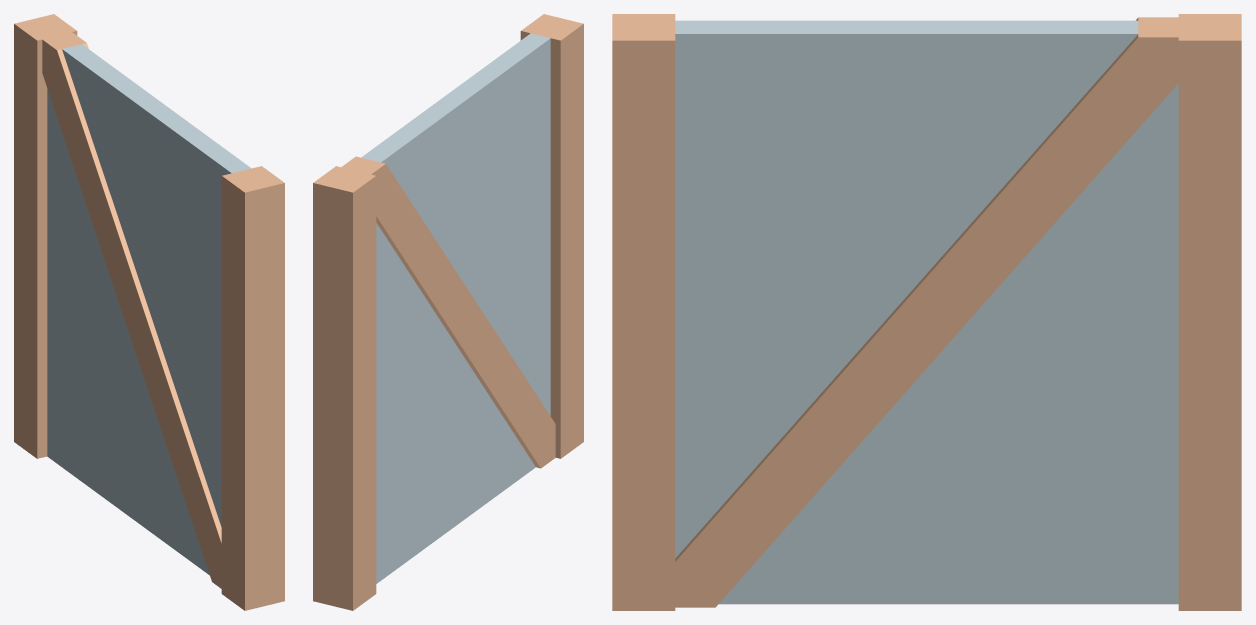
File: wallDetailDiagonal.glb
3 renders of one model, left to right at view 1: azimuth 30°, elevation 25°; view 2: azimuth 150°, elevation 25°; view 3: azimuth 270°, elevation 25°, orthographic. The views are drawn at different scales.
Parts seen in each view (by area): view 1: wallDetailDiagonal; view 2: wallDetailDiagonal; view 3: wallDetailDiagonal.
Boxes of the visible parts, x1,y1,x2,y2 form: wallDetailDiagonal: (14,14,284,610); wallDetailDiagonal: (313,14,583,610); wallDetailDiagonal: (612,14,1241,610).
Bounding box in the file's own units: 0.1 × 1 × 1.
